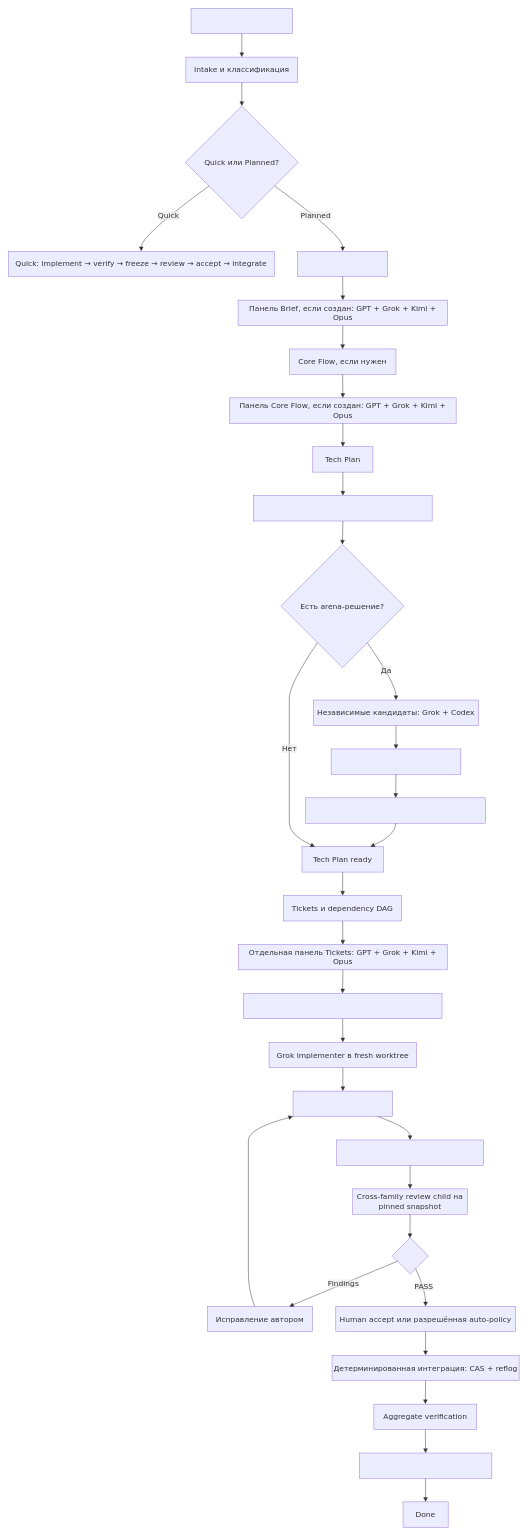
This 527x1535 diagram has some shape labels left out. Each missing label, with the box of its shape:
Blind Judge вне candidate set: (331, 748, 461, 774)
Brief, если нужен: (297, 251, 388, 277)
Cleanup worktrees и snapshots: (359, 1453, 492, 1478)
Decision Record и новая панель Tech Plan: (305, 797, 486, 823)
Freeze: base + pathspec + tree OID: (336, 1140, 483, 1165)
PASS?: (392, 1237, 428, 1274)
Ticket tasks: blockers и параллельная готовность: (243, 993, 442, 1019)
Запрос пользователя: (191, 8, 293, 34)
Панель Tech Plan: GPT + Grok + Kimi + Opus: (253, 495, 432, 521)
Проверка критериев: (293, 1091, 393, 1116)
